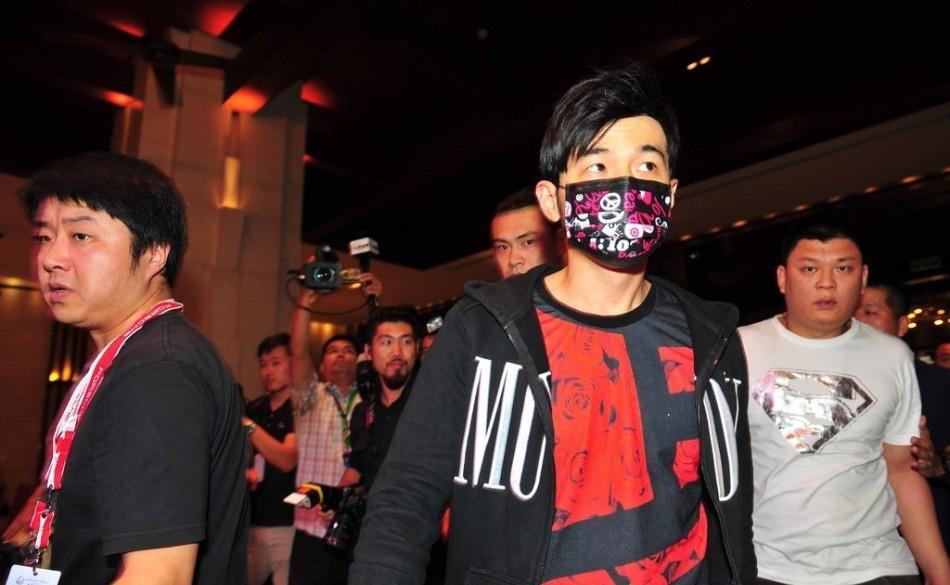NONE: (38, 211, 116, 323), (790, 255, 858, 323), (490, 222, 554, 288), (849, 289, 894, 347), (374, 330, 418, 376), (260, 354, 293, 391), (325, 343, 358, 377)
OK: (566, 135, 670, 258)
